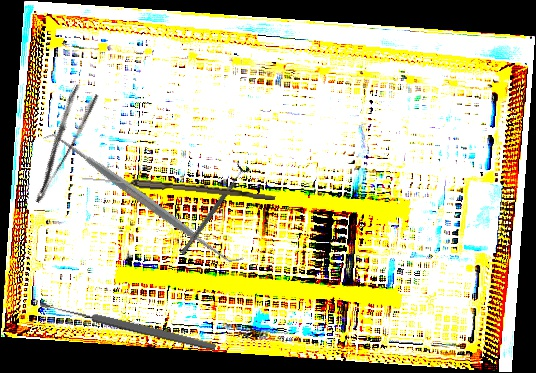Dressing Forceps: (16, 82, 101, 205)
Fixation Ring: (175, 159, 252, 259)
Spatula Surgical: (41, 119, 246, 278)
Surgical Spoon: (39, 298, 217, 353), (81, 174, 277, 201)
